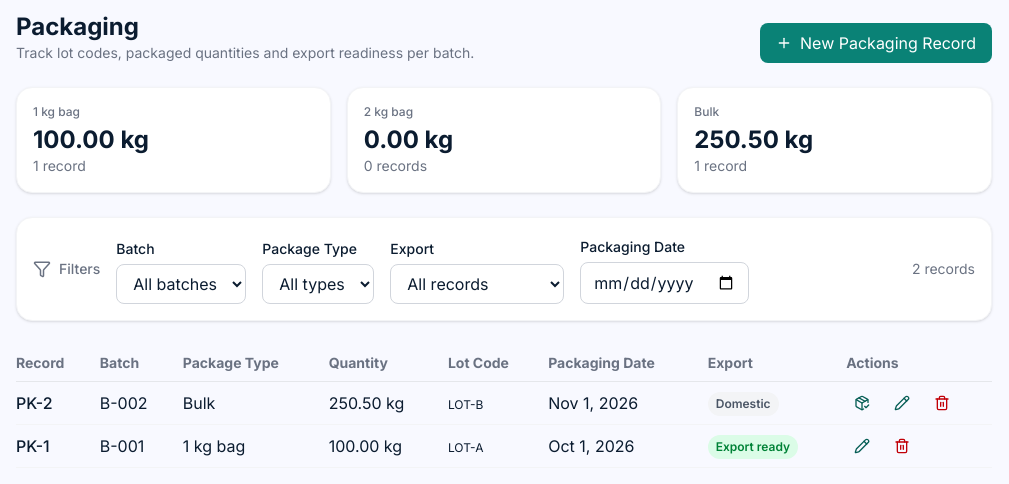
it: PackagingRecordList › filters by packaging date
Expected: the text "PK-1" is shown, [16,424,100,468]
Type "2026-10-01" into the date field named "Filter by packaging date" at (665, 283), box [580,262,749,304]
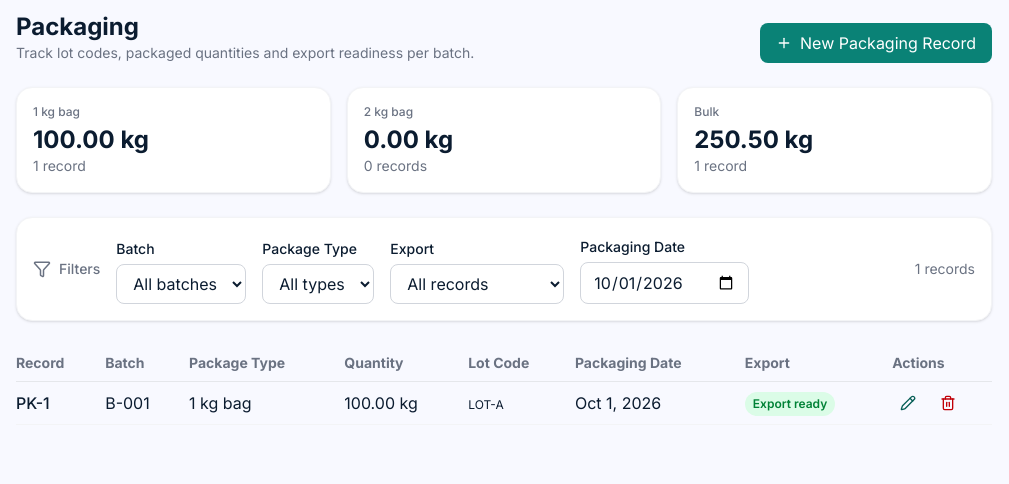
Expected: the text "PK-1" is shown, [16,382,105,424]
Result: the text "PK-2" is gone
